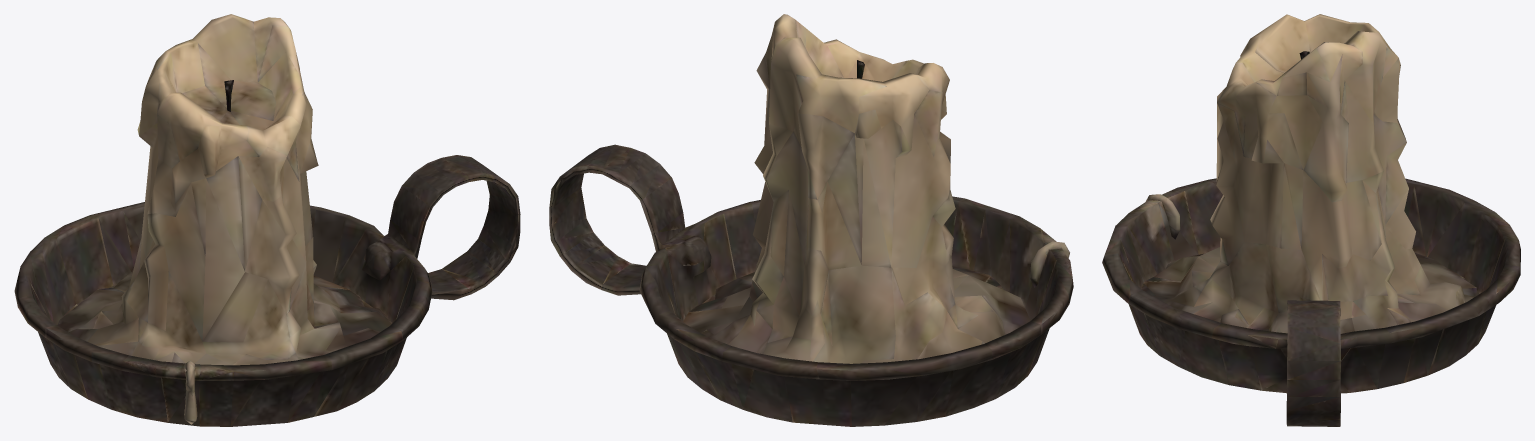
The model's file is d_candle_lit.glb.
3 views of the same model, side by side, from view 1: azimuth 30°, elevation 25°; view 2: azimuth 150°, elevation 25°; view 3: azimuth 270°, elevation 25° (orthographic). The views are drawn at different scales.
Visible parts, largest first — view 1: d_candle_lit; view 2: d_candle_lit; view 3: d_candle_lit.
Part boxes in pixels (x1,y1,x2,y2): d_candle_lit: (14,14,520,426); d_candle_lit: (549,14,1073,426); d_candle_lit: (1102,14,1520,426).
Size of the model in its own units: 0.6687 by 0.4352 by 0.5331.
1 material, 1 textured.
